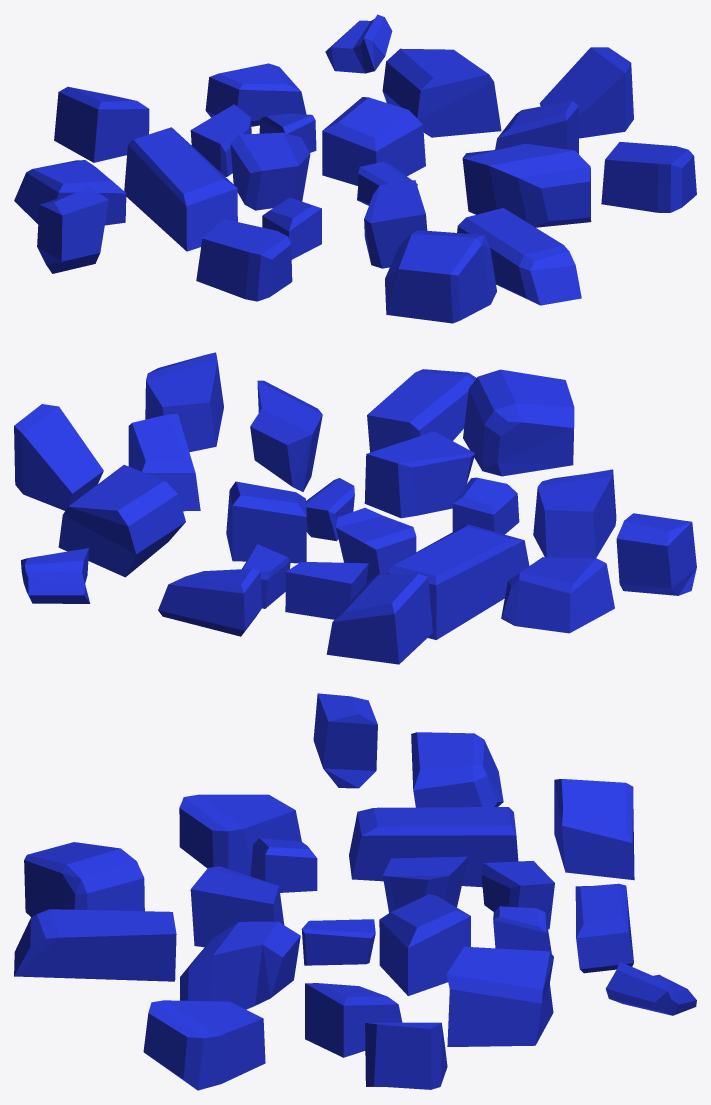
The model's file is veal_particles_low.fbx.
3 views of the same model, one above another, from view 1: azimuth 30°, elevation 25°; view 2: azimuth 150°, elevation 25°; view 3: azimuth 270°, elevation 25° (orthographic). The views are drawn at different scales.
Visible parts, largest first — view 1: veal_particles_low; view 2: veal_particles_low; view 3: veal_particles_low.
Part boxes in pixels (bbox=[...]): veal_particles_low: bbox=[14, 14, 696, 323]; veal_particles_low: bbox=[14, 352, 696, 664]; veal_particles_low: bbox=[14, 693, 696, 1090].
Bounding box in the file's own units: 23.51 × 3.26 × 21.15.
